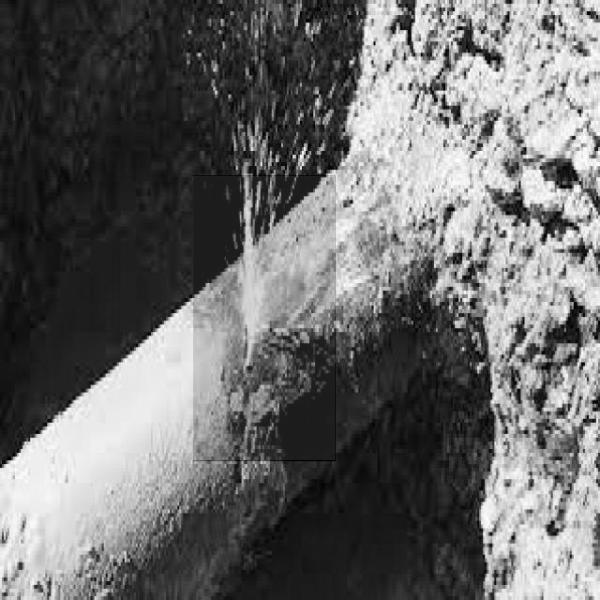water: (193, 176, 335, 460)
